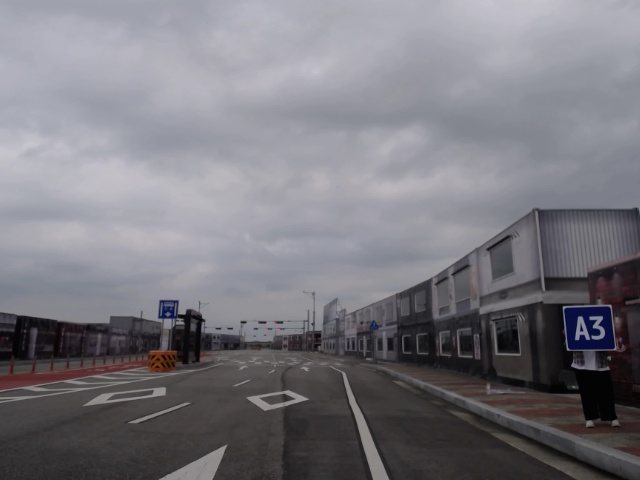delivery_a3: (564, 305, 616, 351)
